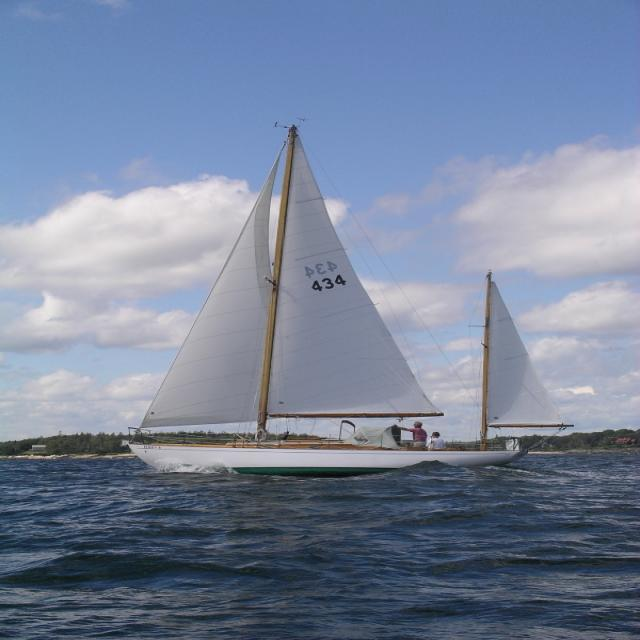Ship: (135, 123, 578, 475)
